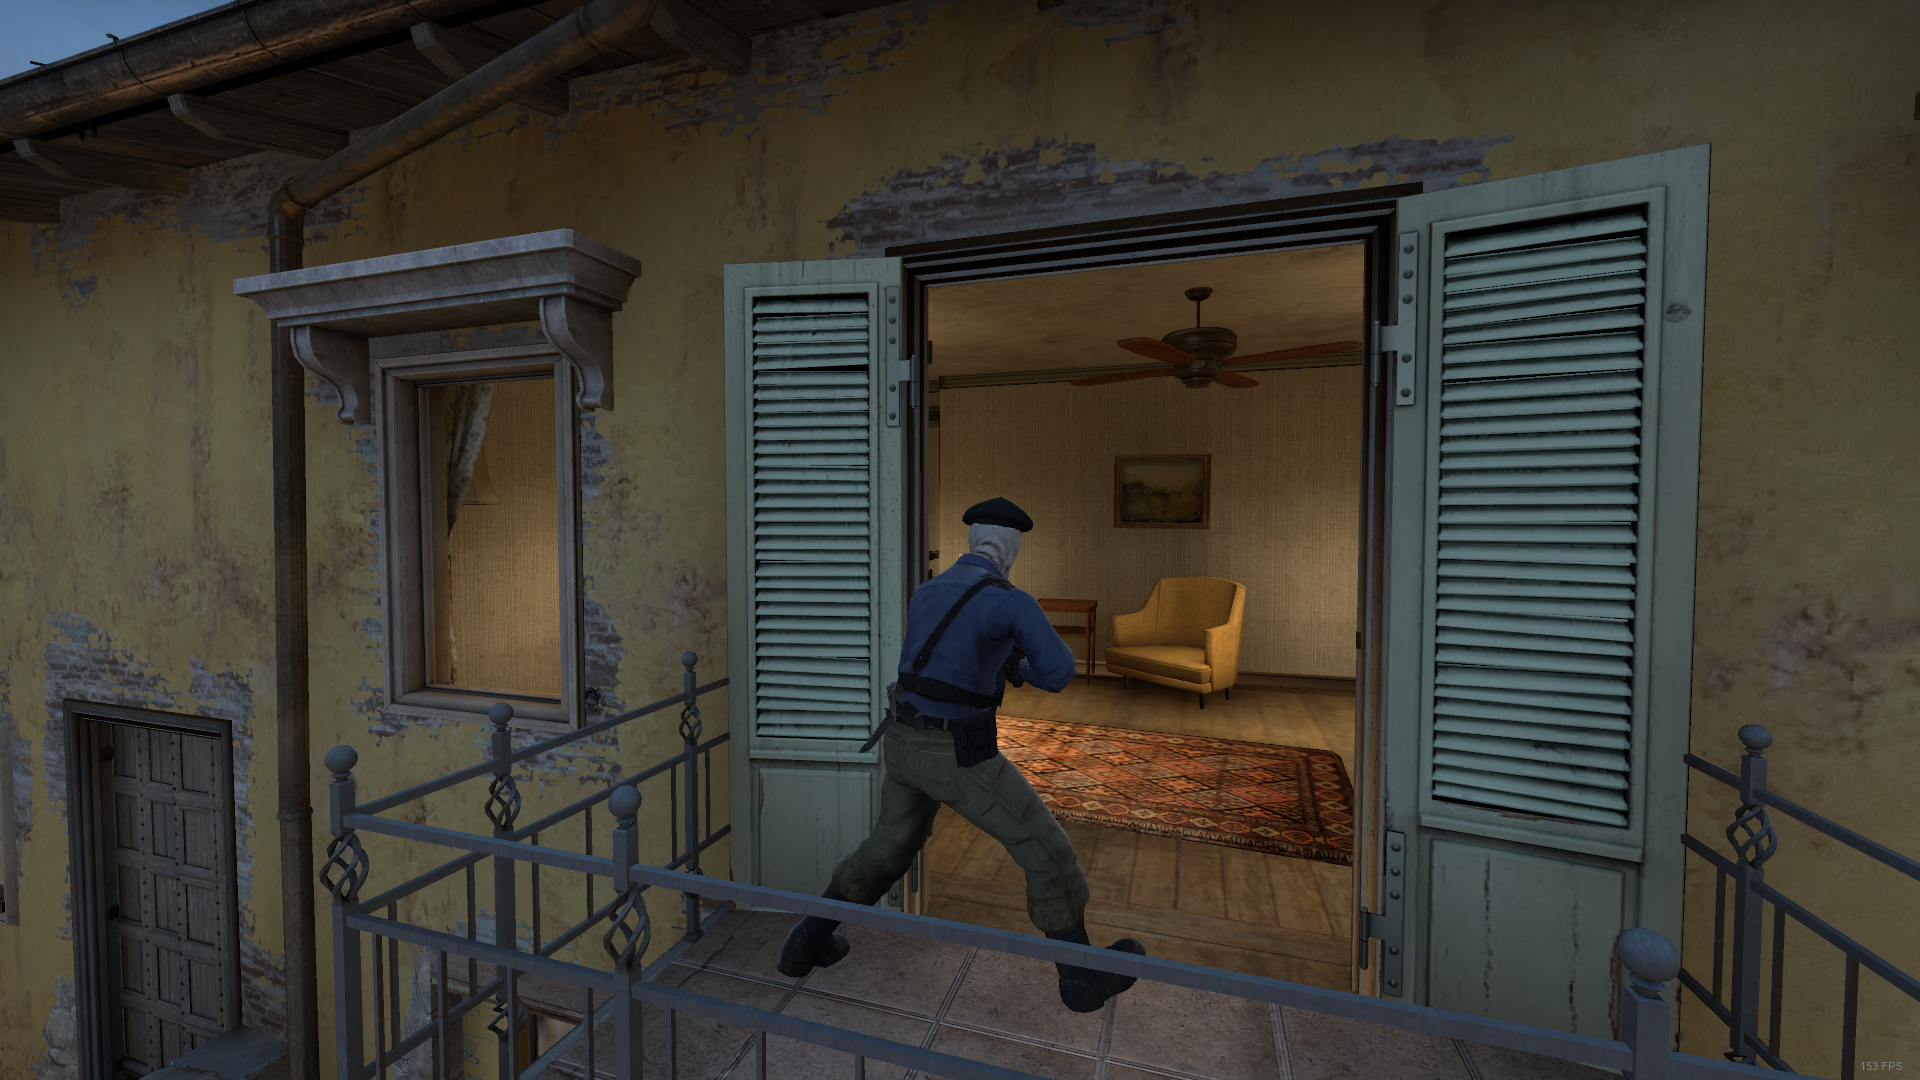t: (778, 497, 1189, 1023)
